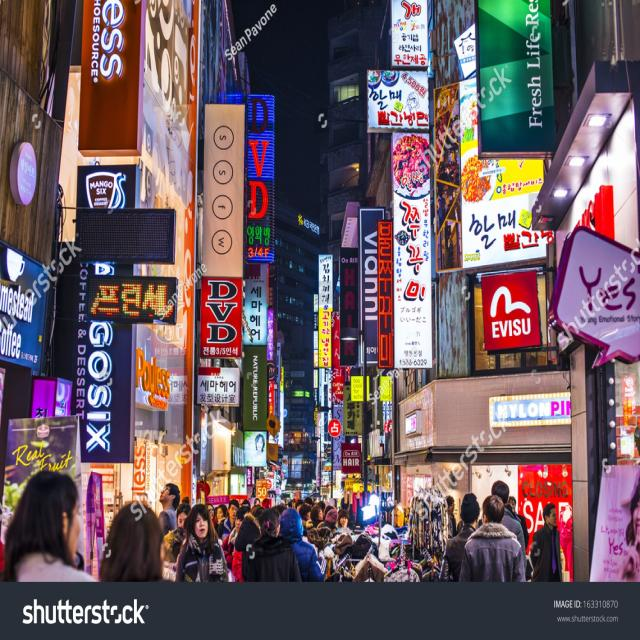body: (2, 469, 100, 584), (458, 496, 527, 582), (99, 501, 165, 583), (478, 480, 527, 574), (173, 504, 230, 584), (246, 508, 302, 582), (277, 506, 328, 582), (440, 492, 480, 583), (530, 502, 562, 582), (618, 469, 640, 582), (220, 505, 250, 582), (195, 503, 220, 582), (257, 496, 273, 579), (157, 482, 181, 536), (507, 494, 529, 550), (218, 498, 240, 544), (443, 494, 458, 538), (246, 432, 266, 464), (316, 508, 339, 534), (212, 502, 228, 533), (175, 502, 192, 531), (307, 504, 325, 529), (334, 508, 350, 533), (298, 506, 312, 532), (249, 497, 262, 518), (294, 499, 305, 514), (316, 500, 326, 516), (240, 499, 252, 510), (304, 496, 313, 508), (331, 498, 338, 508), (291, 500, 296, 509)
